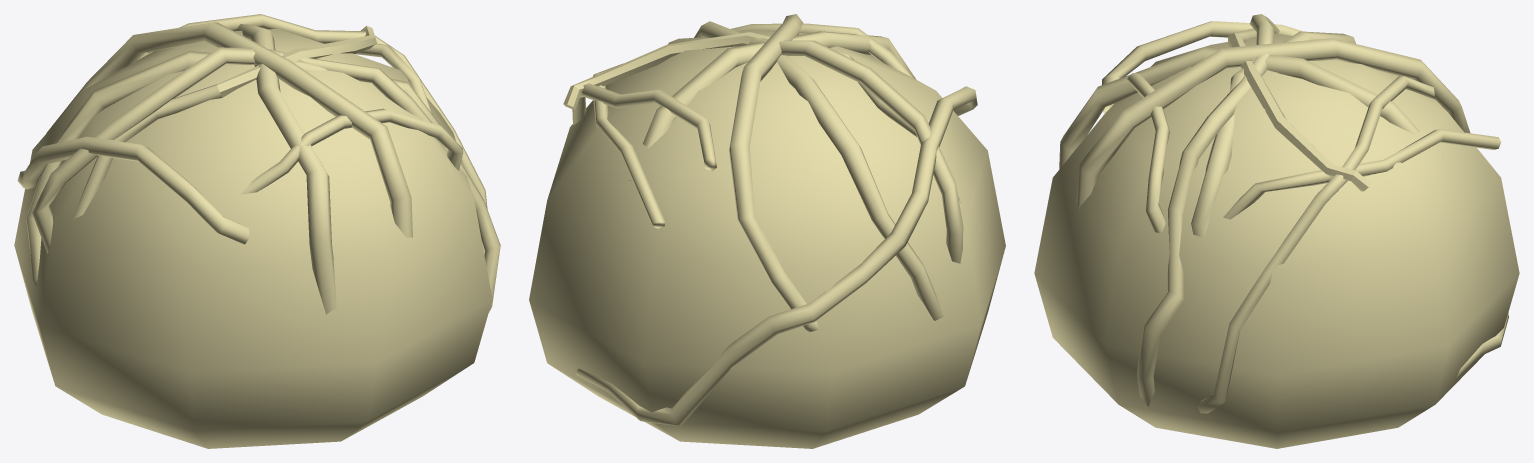
Rendered from NoodleBall_SM.fbx.
The picture shows the model from 3 angles, left to right: view 1: azimuth 30°, elevation 25°; view 2: azimuth 150°, elevation 25°; view 3: azimuth 270°, elevation 25°; orthographic projection. The views are drawn at different scales.
Parts seen in each view (by area): view 1: pCylinder11; view 2: pCylinder11; view 3: pCylinder11.
Boxes of the visible parts, bbox=[...] form: pCylinder11: bbox=[14, 14, 500, 448]; pCylinder11: bbox=[529, 14, 1005, 448]; pCylinder11: bbox=[1034, 14, 1519, 448].
Size of the model in its own units: 2 by 1.69 by 2.
